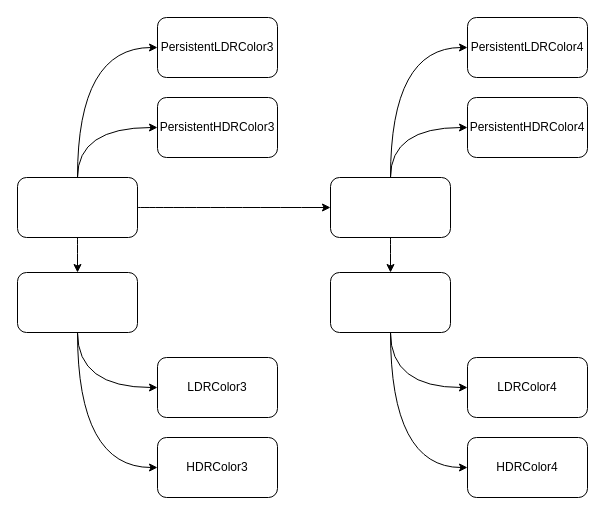
Some shapes in this 605 by 515 pixel diagram are drawn without their labels. The centre of each missing label's shape, as x and y in pixels:
"IColor3 (Read / Write)" belongs at point 77,302.
"IColor3Base (Read)" belongs at point 77,207.
"IColor4 (Read / Write)" belongs at point 390,302.
"IColor4Base (Read)" belongs at point 390,207.
